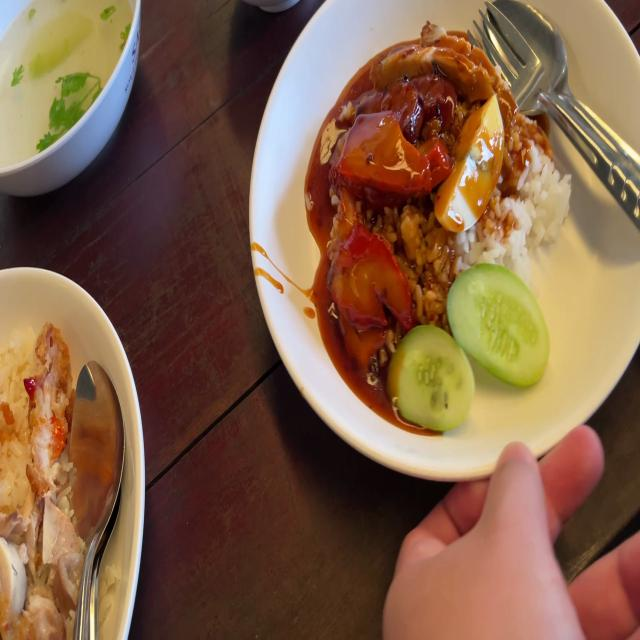boiled_chicken: (0, 489, 93, 640)
boiled_egg: (433, 93, 508, 231)
chainese_sausage: (380, 61, 455, 133)
chicken_rice: (0, 322, 99, 640)
crispy_pork: (390, 19, 513, 103)
cucumber: (449, 261, 551, 392), (388, 324, 476, 424)
fried_chicken: (28, 313, 77, 492)
red_pork: (332, 210, 411, 362), (339, 108, 446, 196)
red_pork_and_crispy_pork: (328, 21, 573, 433)
